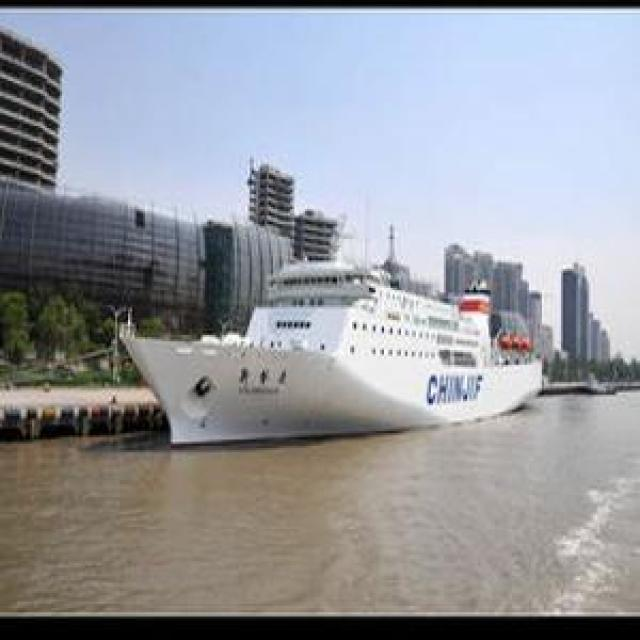navalvessels: (114, 244, 569, 439)
